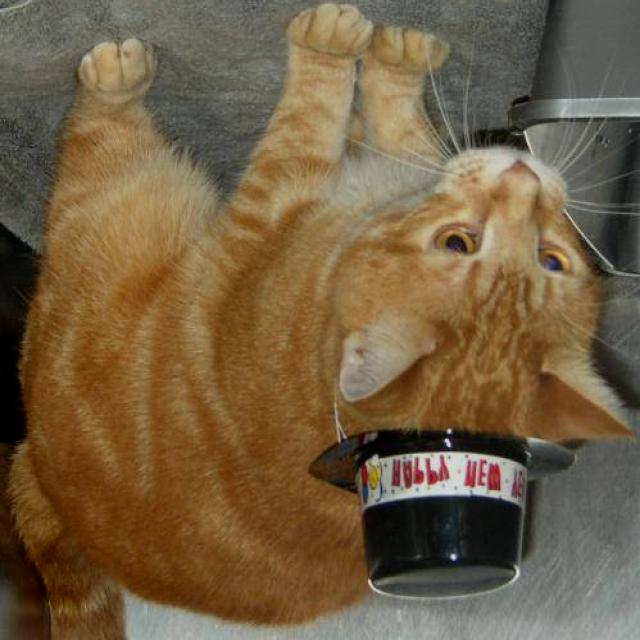Kucing: (2, 12, 610, 637)
